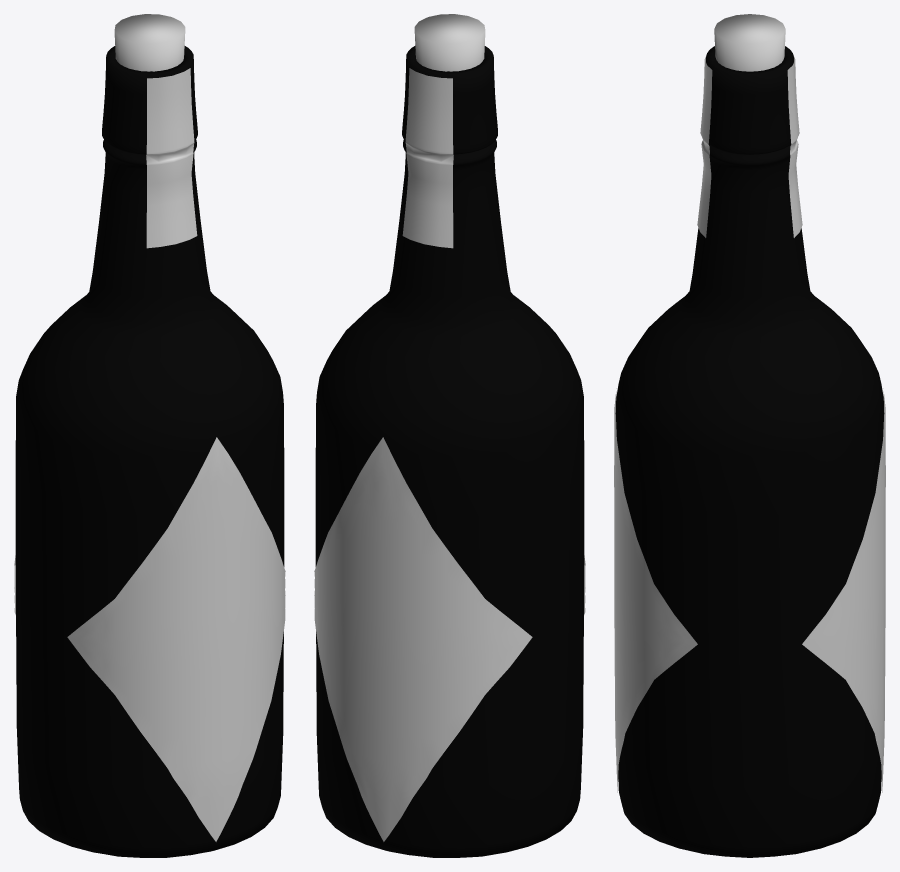
The model's file is BottleD_mdl.fbx.
3 views of the same model, side by side, from view 1: azimuth 30°, elevation 25°; view 2: azimuth 150°, elevation 25°; view 3: azimuth 270°, elevation 25° (orthographic).
Parts seen in each view (by area): view 1: BottleD.002; view 2: BottleD.002; view 3: BottleD.002.
Part boxes in pixels (x1,y1,x2,y2): BottleD.002: (14,14,285,857); BottleD.002: (314,14,585,857); BottleD.002: (614,14,885,857).
Bounding box in the file's own units: 7.95 × 25.47 × 8.03.
